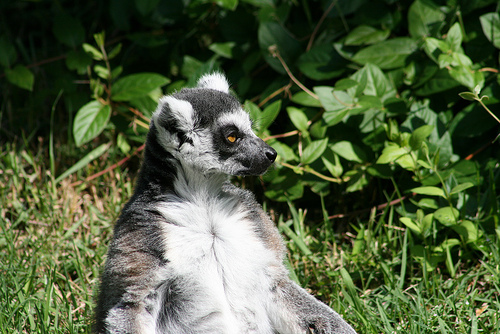cat: (92, 69, 359, 333)
